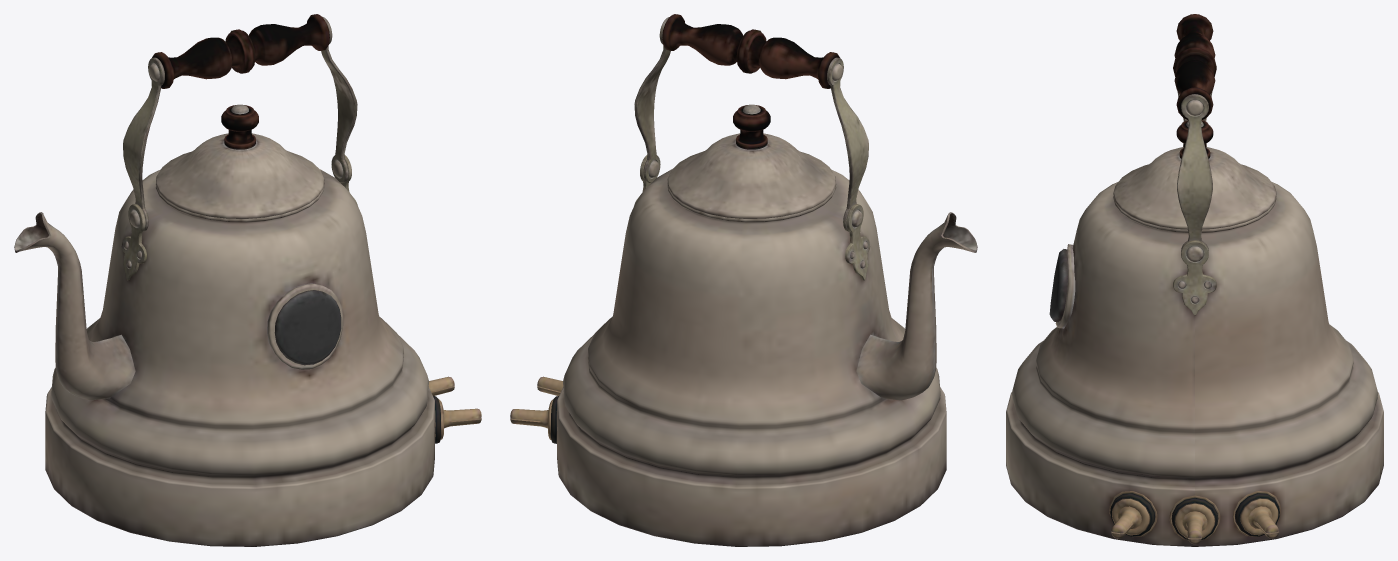
Rendered from detail.fbx.
3 renders of one model, left to right at view 1: azimuth 30°, elevation 25°; view 2: azimuth 150°, elevation 25°; view 3: azimuth 270°, elevation 25°, orthographic. The views are drawn at different scales.
Visible parts, largest first — view 1: vintage_electric_kettle; view 2: vintage_electric_kettle; view 3: vintage_electric_kettle.
Boxes of the visible parts, left/top/right/bottom form: vintage_electric_kettle: left=14, top=14, right=481, bottom=546; vintage_electric_kettle: left=510, top=14, right=977, bottom=546; vintage_electric_kettle: left=1006, top=14, right=1383, bottom=546.
Size of the model in its own units: 32.09 by 30.47 by 24.86.
